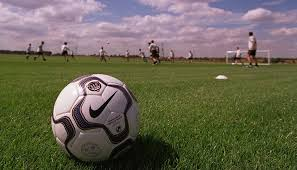football ball: (53, 73, 137, 164)
